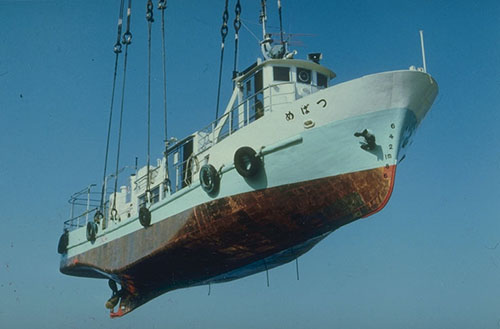rust: (186, 195, 286, 276), (305, 172, 385, 231), (141, 262, 171, 292)
